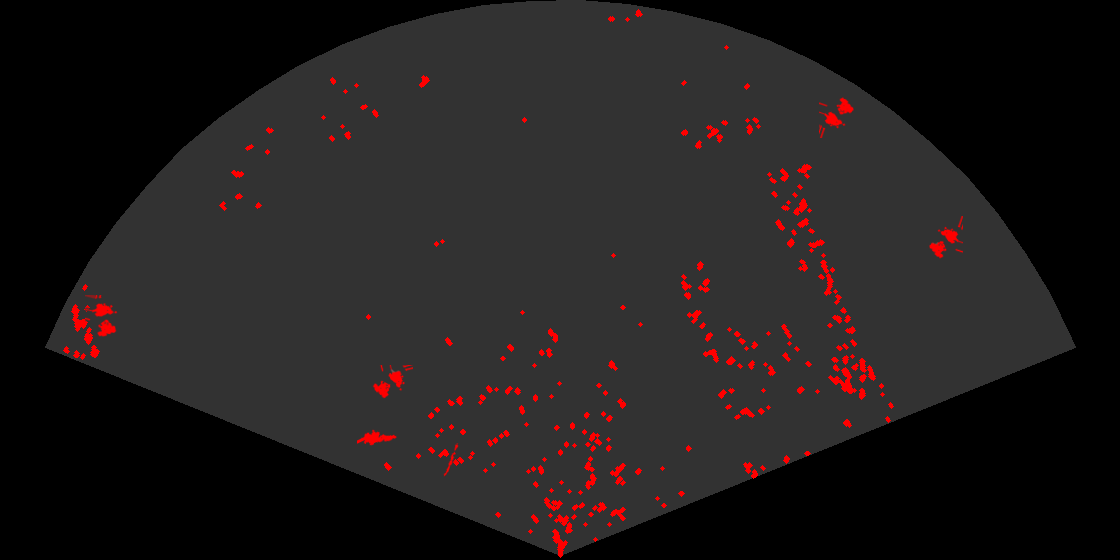cage: (928, 216, 963, 260), (819, 96, 855, 138), (371, 365, 413, 400), (85, 295, 119, 338)
chain: (442, 443, 460, 478)
frogman: (357, 428, 397, 447)
